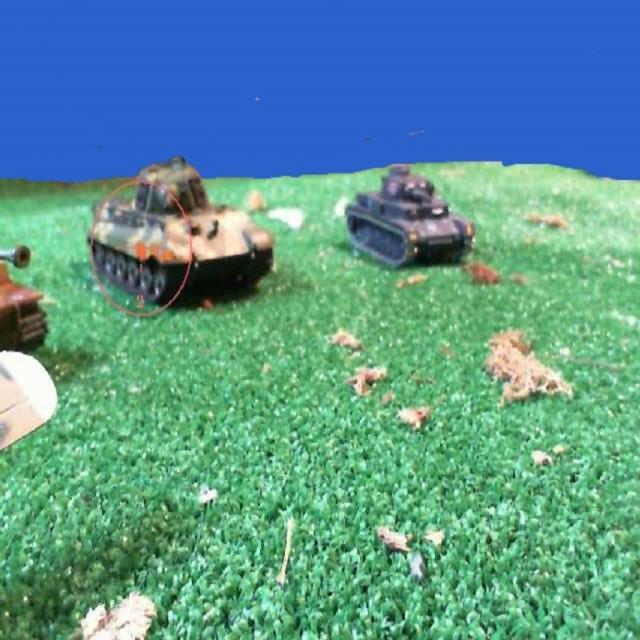tank: (84, 152, 276, 304), (344, 162, 478, 270), (0, 246, 50, 352)
